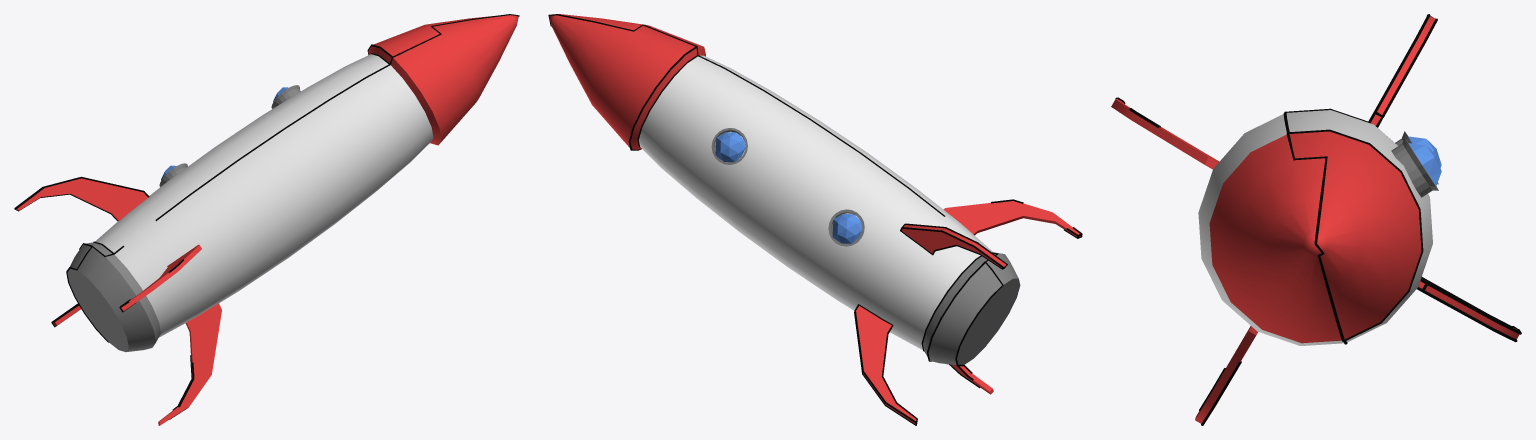
The model's file is Fighter (2) (1) (1).fbx.
3 views of the same model, side by side, from view 1: azimuth 30°, elevation 25°; view 2: azimuth 150°, elevation 25°; view 3: azimuth 270°, elevation 25° (orthographic). The views are drawn at different scales.
Visible parts, largest first — view 1: LineArt.008; view 2: LineArt.008; view 3: LineArt.008.
Boxes of the visible parts, <box> form: LineArt.008: <box>14,14,519,425</box>; LineArt.008: <box>548,14,1082,425</box>; LineArt.008: <box>1111,14,1521,425</box>.
Bounding box in the file's own units: 1253 × 760 × 534.
